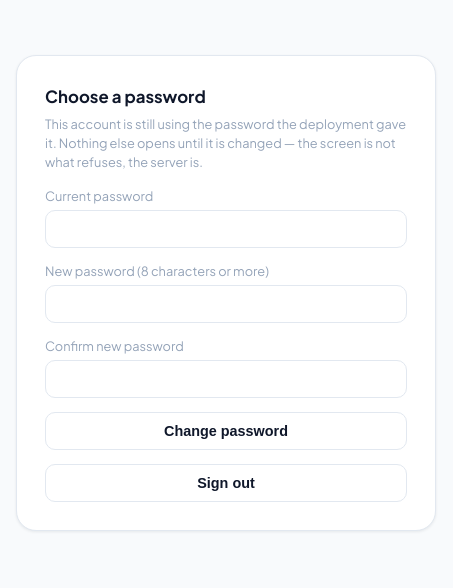
Test: a refused change and an unreachable backend are different sentences › says the server could not be reached when there was no answer at all
This screenshot has width=453, height=588.
In the password field below "Current password": (226, 229) [45,210,407,248], type "the-seeded-one"
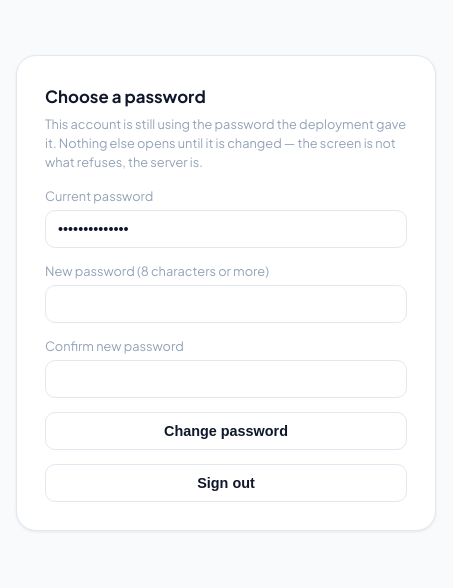
In the password field below "New password (8 characters or more)": (226, 304) [45,285,407,323], type "chosen-by-the-operator"
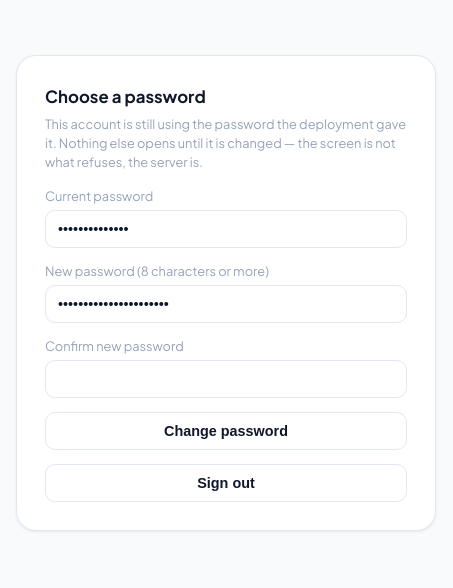
In the password field below "Confirm new password": (226, 379) [45,360,407,398], type "chosen-by-the-operator"
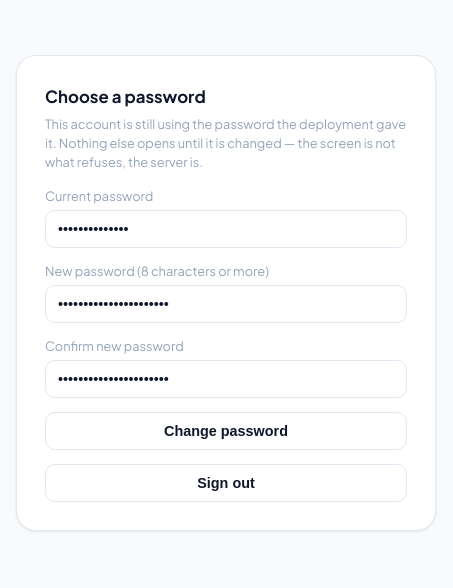
Click the submit button: (226, 431) [45,412,407,450]
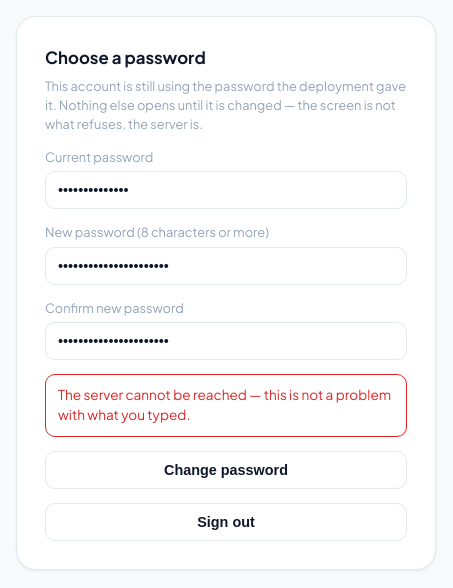
Expected: the submit button is enabled, [45,450,407,488]
Now the text with test id "change-password-error" reads "The server cannot be reached — this is not a problem with what you typed.", box [58,386,391,423]
